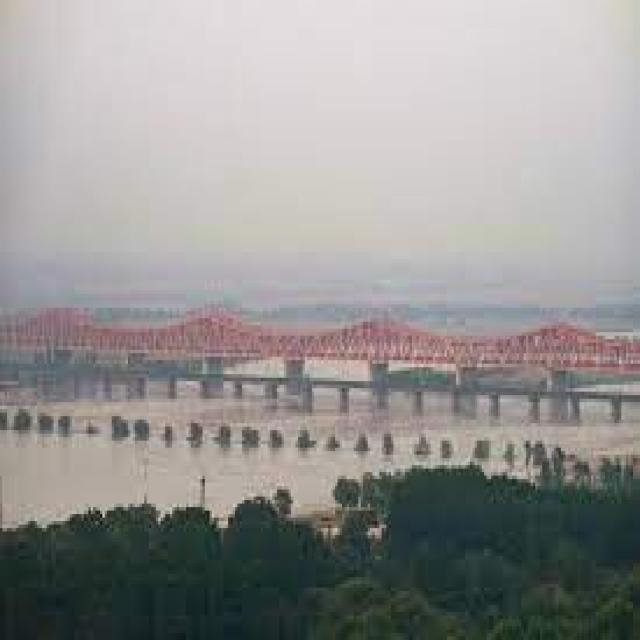Bridges: (1, 225, 640, 447)
